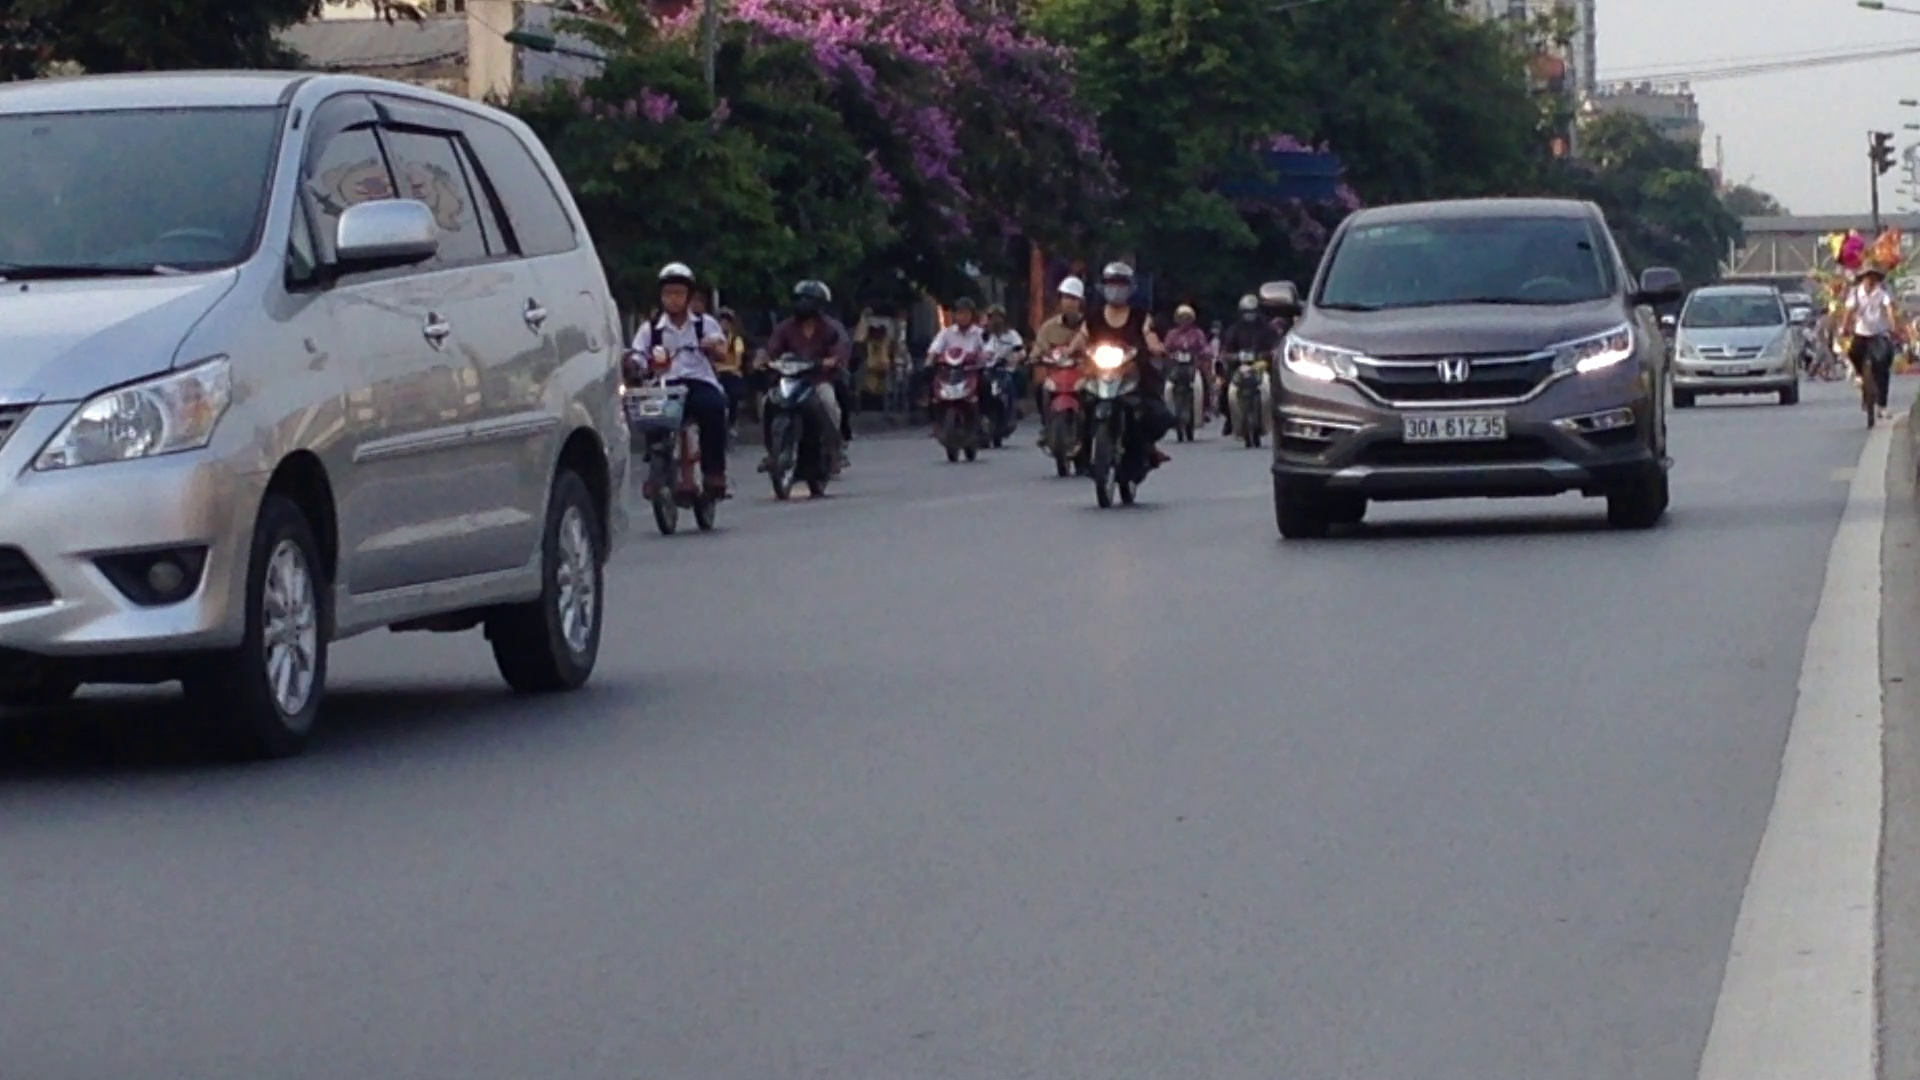person: (1395, 409, 1513, 444)
